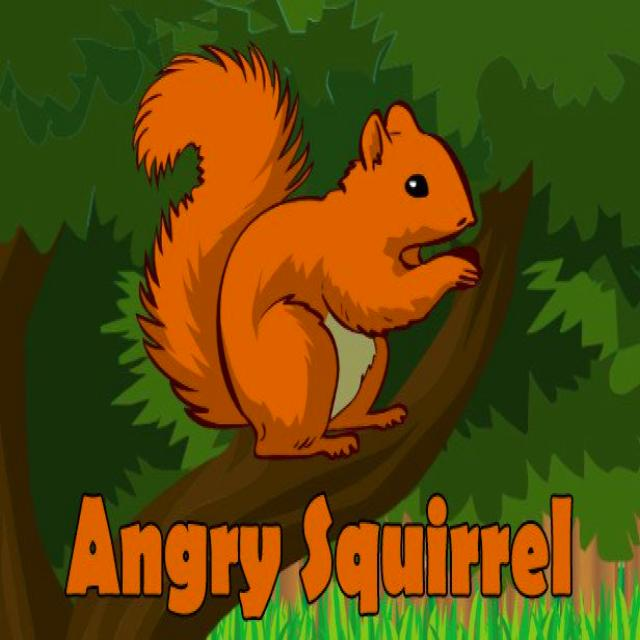squirrel: (133, 47, 481, 457)
